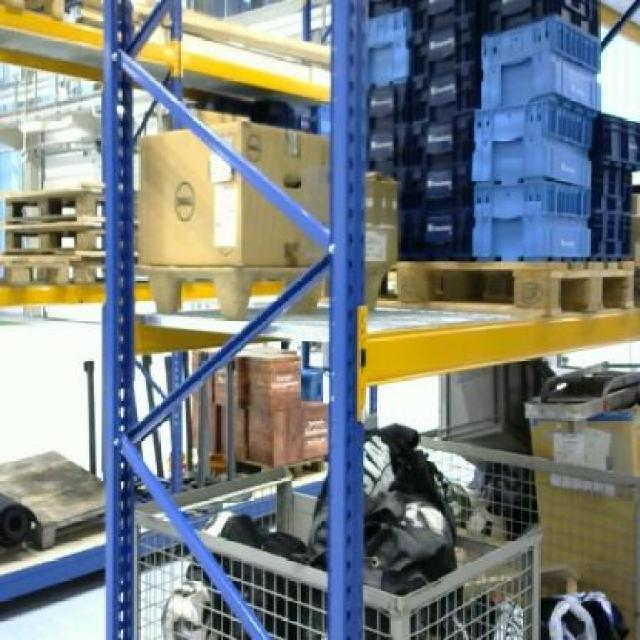box: (138, 118, 327, 267), (533, 420, 636, 574), (363, 171, 397, 266)
